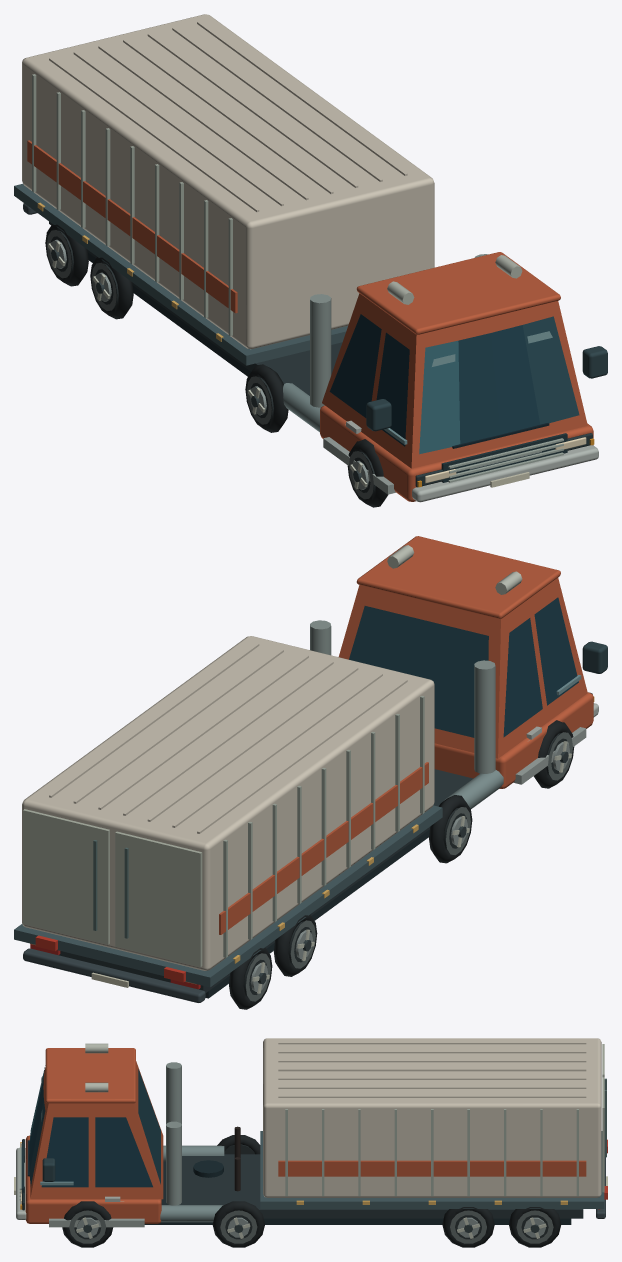
The model's file is semi.glb.
3 views of the same model, one above another, from view 1: azimuth 30°, elevation 25°; view 2: azimuth 150°, elevation 25°; view 3: azimuth 270°, elevation 25° (orthographic). The views are drawn at different scales.
Visible parts, largest first — view 1: semi_body; view 2: semi_body; view 3: semi_body.
Boxes of the visible parts, x1,y1,x2,y2 form: semi_body: (14,14,607,507); semi_body: (14,536,607,1009); semi_body: (14,1038,607,1247).
Size of the model in its own units: 3 by 2.48 by 8.84.
